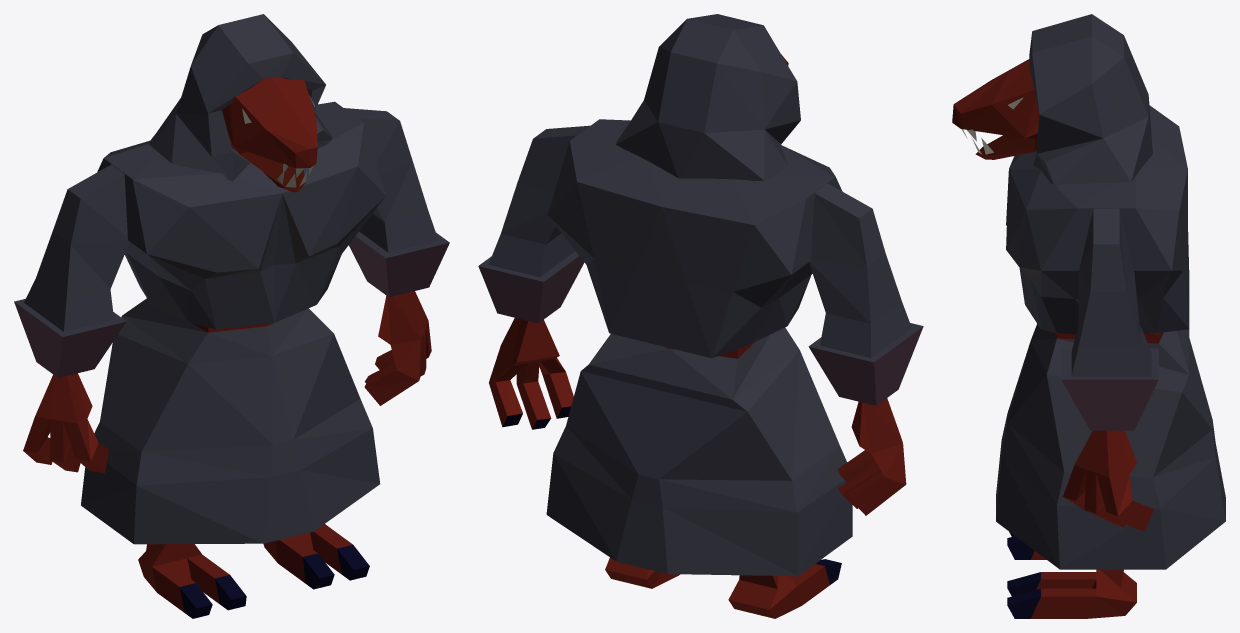
The model's file is yt_mejkot.glb.
The picture shows the model from 3 angles, left to right: view 1: azimuth 30°, elevation 25°; view 2: azimuth 150°, elevation 25°; view 3: azimuth 270°, elevation 25°; orthographic projection. The views are drawn at different scales.
Size of the model in its own units: 325 by 418 by 188.
1 material, 1 textured.
